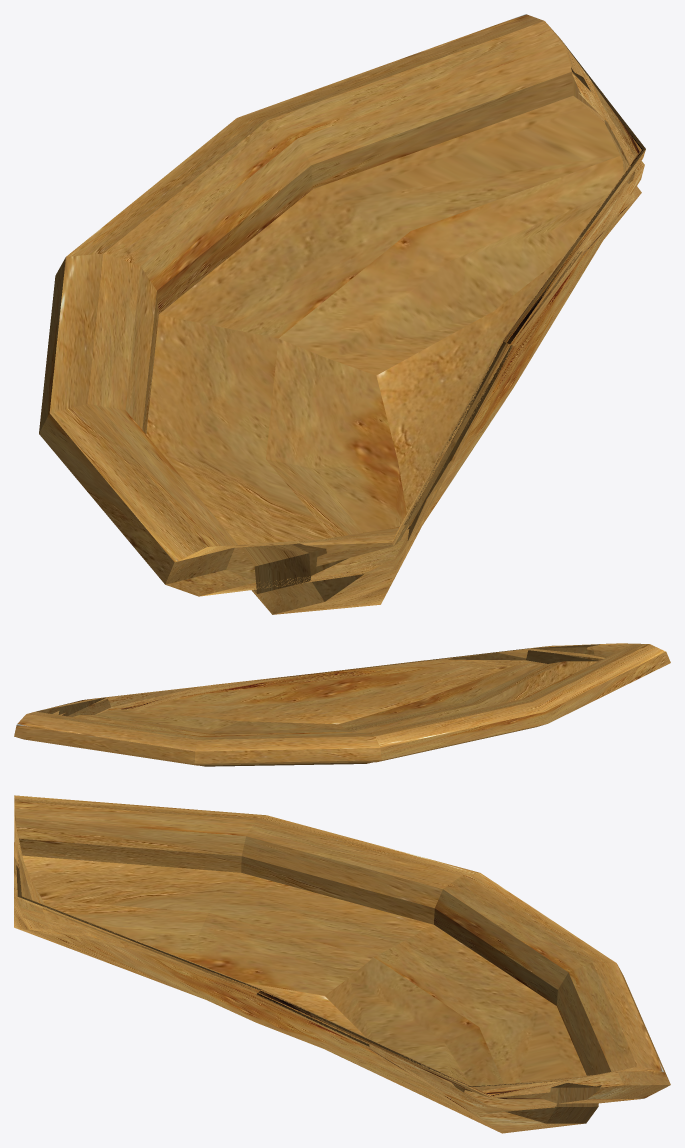
Rendered from sugarpoly1.gltf.
3 views of the same model, one above another, from view 1: azimuth 30°, elevation 25°; view 2: azimuth 150°, elevation 25°; view 3: azimuth 270°, elevation 25° (orthographic). The views are drawn at different scales.
Parts seen in each view (by area): view 1: 평면; view 2: 평면; view 3: 평면.
Boxes of the visible parts, box(x1,y1,x2,y2) form: 평면: box(39, 14, 645, 614); 평면: box(14, 643, 670, 766); 평면: box(14, 795, 670, 1133).
Size of the model in its own units: 0.8289 by 0.1 by 0.8241.
Materials: 1 (1 with a texture image).
